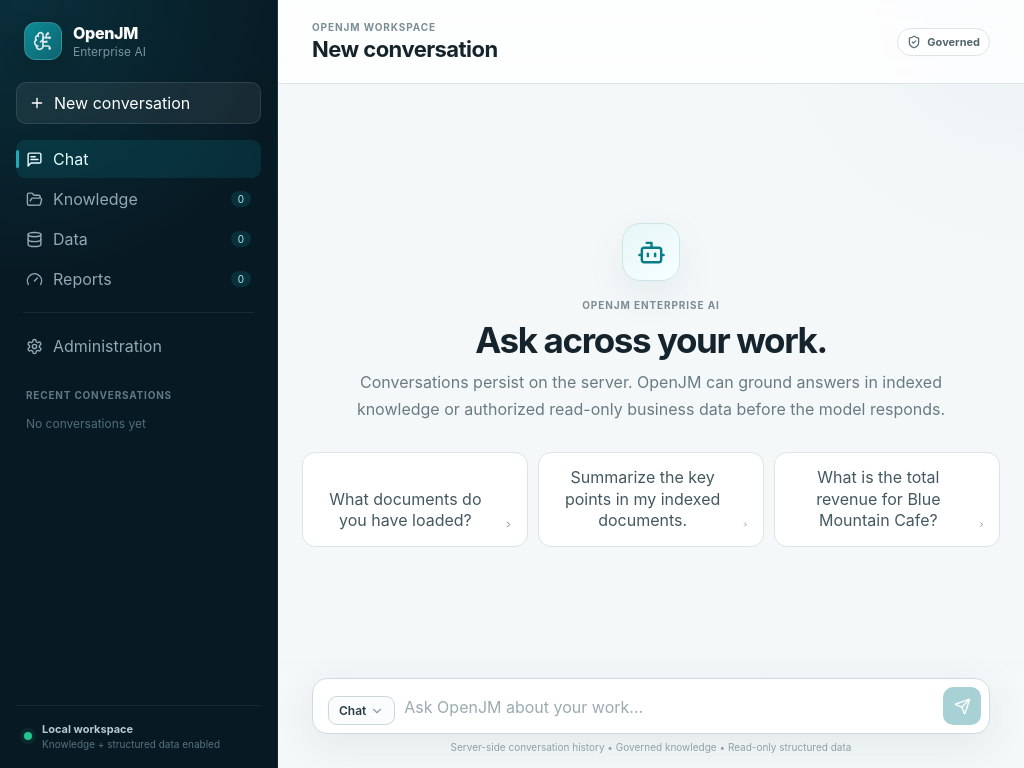
connectors and operations surfaces mount from the sidebar and load on demand
Check: the button "New conversation" is shown, box [16,82,261,124]
Click the button "Reports 0" at (138, 279), box [16,260,261,298]
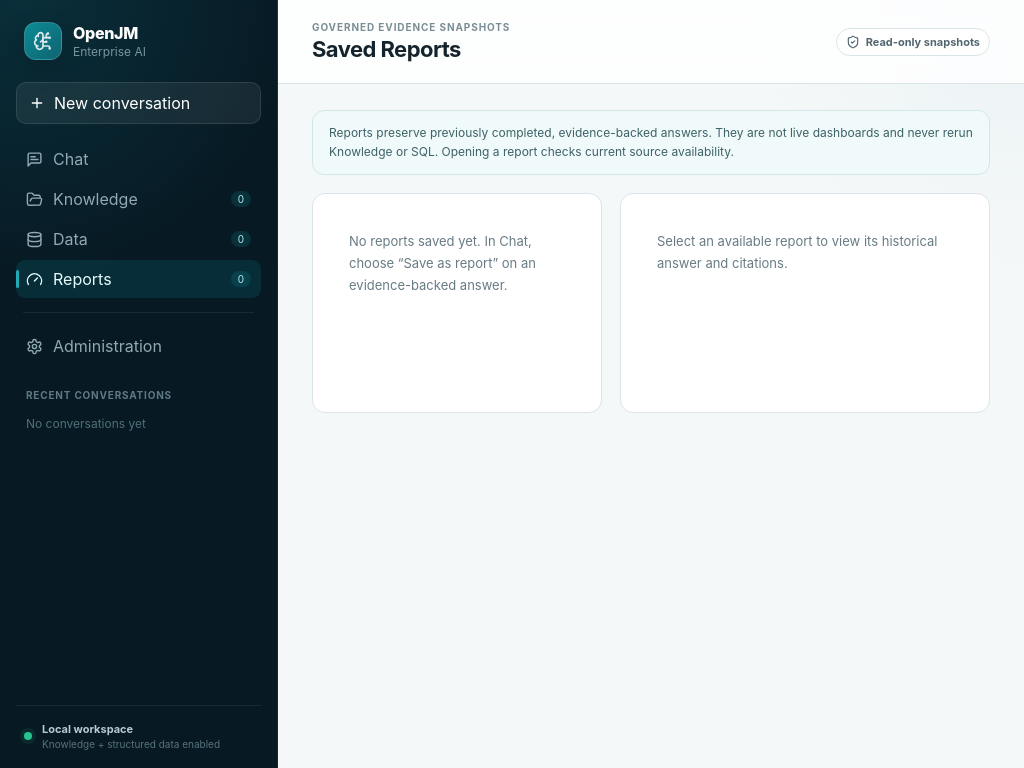
Check: the heading "Saved Reports" is shown, box [312,36,461,62]
